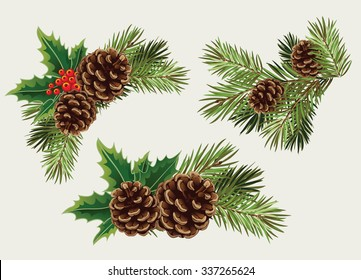Pc: (153, 174, 219, 237), (110, 182, 161, 237), (78, 50, 131, 101), (51, 94, 99, 137), (290, 36, 324, 79), (250, 78, 283, 114)
